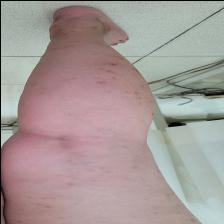DA: (76, 52, 150, 104)
